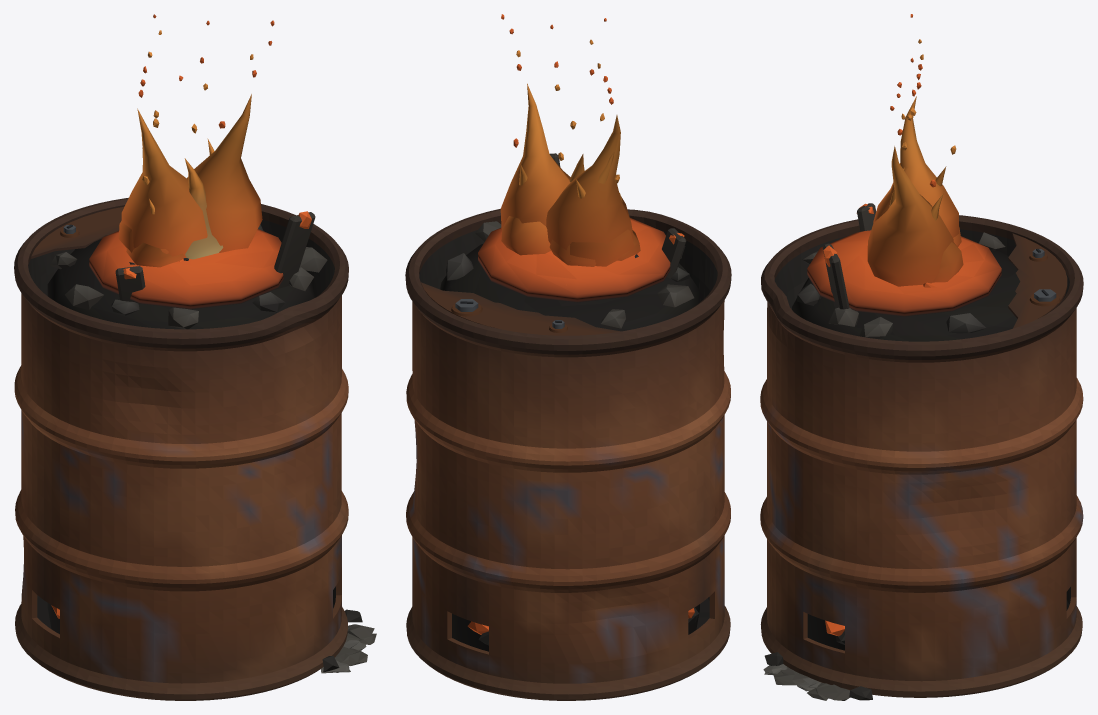
File: wasteland_fire_barrel.glb
The picture shows the model from 3 angles, left to right: view 1: azimuth 30°, elevation 25°; view 2: azimuth 150°, elevation 25°; view 3: azimuth 270°, elevation 25°; orthographic projection. The views are drawn at different scales.
Visible parts, largest first — view 1: wasteland_fire_barrel; view 2: wasteland_fire_barrel; view 3: wasteland_fire_barrel.
Part boxes in pixels (x1,y1,x2,y2): wasteland_fire_barrel: [14, 14, 376, 700]; wasteland_fire_barrel: [405, 14, 731, 700]; wasteland_fire_barrel: [760, 14, 1083, 700].
Size of the model in its own units: 0.7494 by 1.55 by 0.7473.
